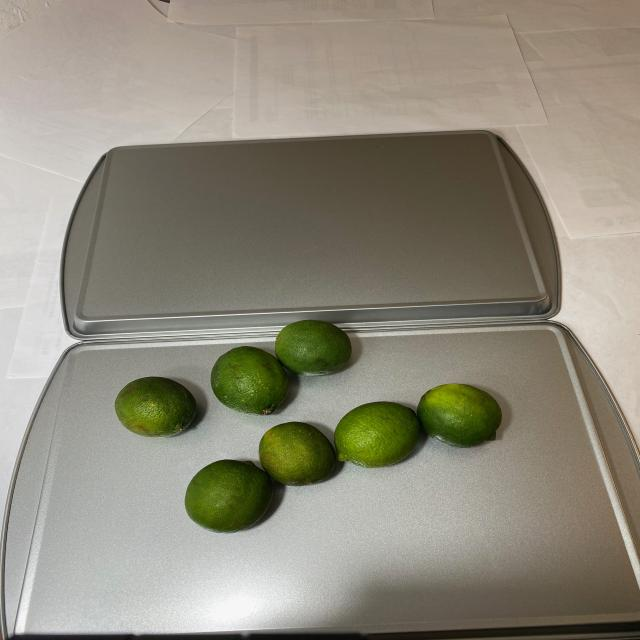lemon: (117, 319, 510, 534)
